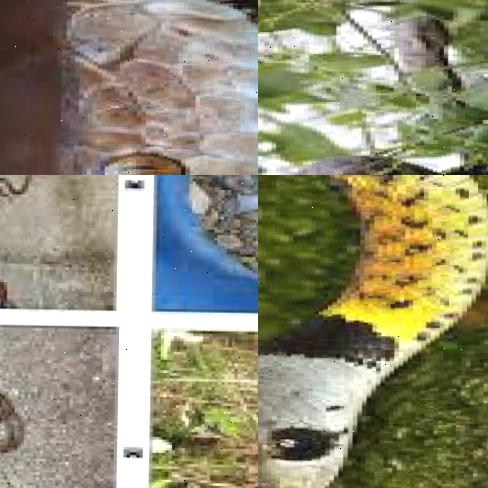snake: (258, 175, 488, 488), (0, 0, 258, 175), (258, 0, 488, 175)
